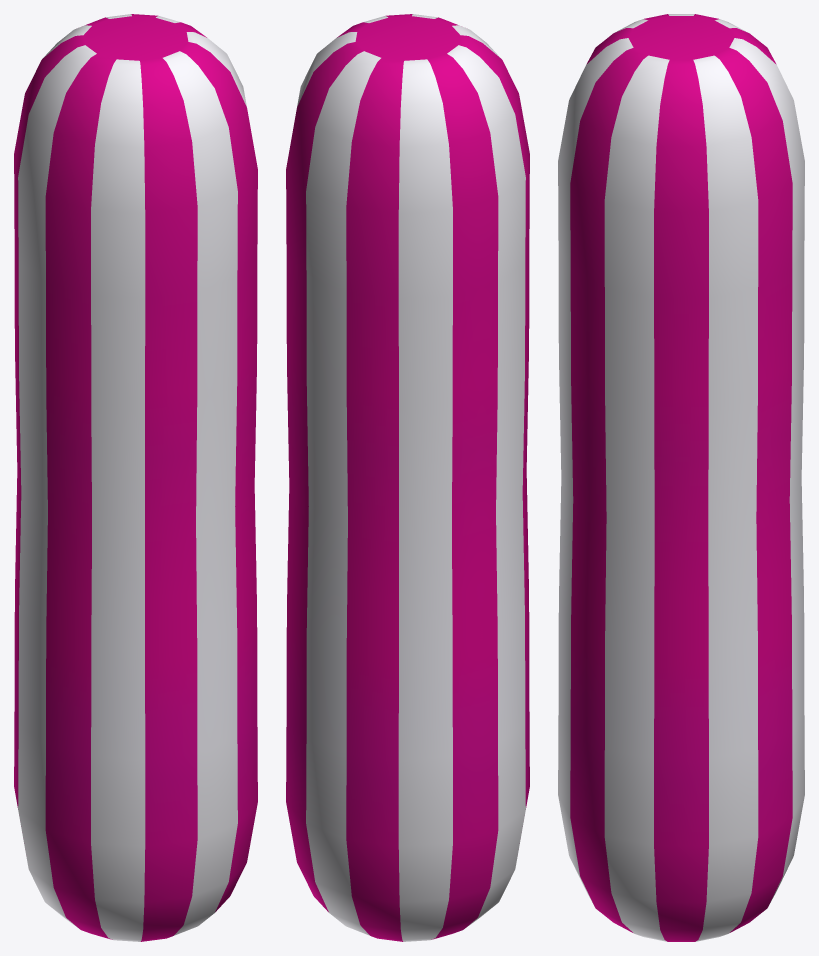
File: candy_hard_25.fbx
3 views of the same model, side by side, from view 1: azimuth 30°, elevation 25°; view 2: azimuth 150°, elevation 25°; view 3: azimuth 270°, elevation 25° (orthographic).
Visible parts, largest first — view 1: c_h_25; view 2: c_h_25; view 3: c_h_25.
Part boxes in pixels (left/top/right/bottom): c_h_25: left=14, top=14, right=257, bottom=941; c_h_25: left=286, top=14, right=529, bottom=941; c_h_25: left=558, top=14, right=804, bottom=941.
Bounding box in the file's own units: 74.13 × 299 × 76.04.
